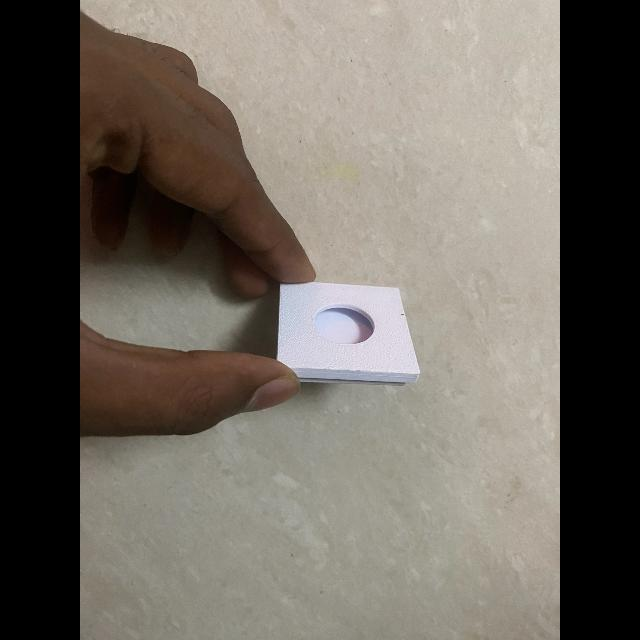RASPBERY PI CAM ENCLOSURE: (276, 282, 420, 386)
